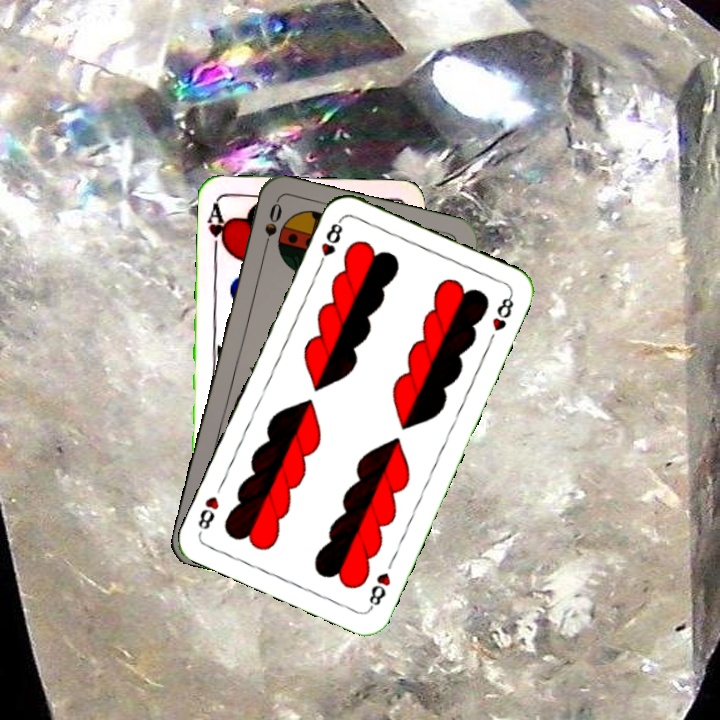H8: (314, 215, 345, 271), (365, 568, 393, 612)
HA: (204, 198, 231, 257)
SO: (258, 199, 285, 257)
